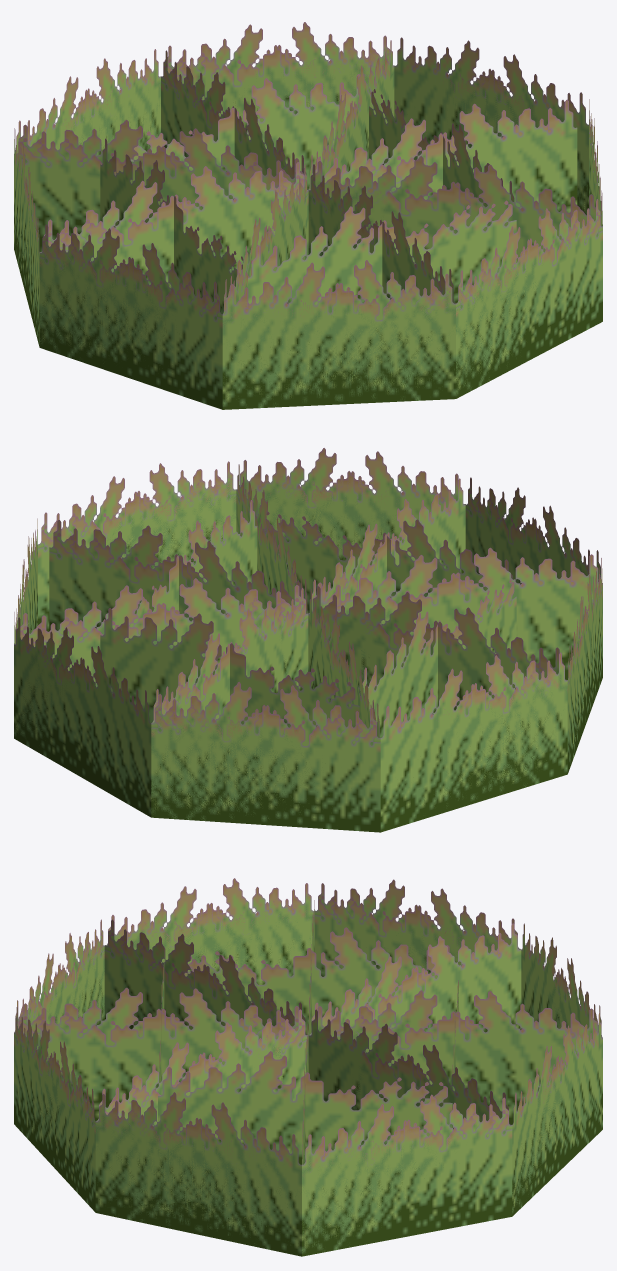
Rendered from grass_test.fbx.
3 views of the same model, one above another, from view 1: azimuth 30°, elevation 25°; view 2: azimuth 150°, elevation 25°; view 3: azimuth 270°, elevation 25° (orthographic). The views are drawn at different scales.
Visible parts, largest first — view 1: long_grass.001; view 2: long_grass.001; view 3: long_grass.001.
Boxes of the visible parts, bbox=[...] form: long_grass.001: bbox=[14, 22, 602, 409]; long_grass.001: bbox=[14, 448, 602, 832]; long_grass.001: bbox=[14, 878, 602, 1256].
Size of the model in its own units: 1.63 by 0.4228 by 1.6.
Materials: 1 (1 with a texture image).
